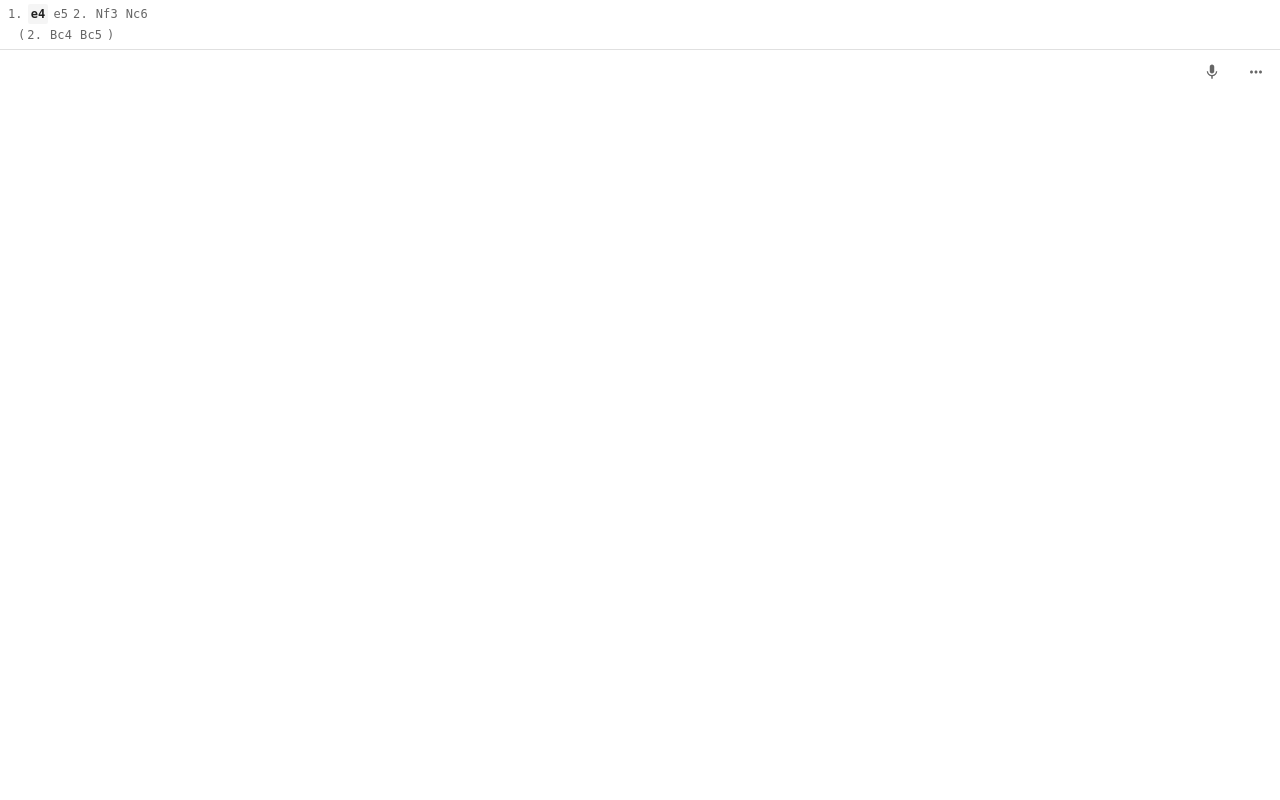
Test: Recording a voice note › a failed save keeps the take and says so
Click the button named "Voice note" at [1212, 72], box [1192,52,1232,92]
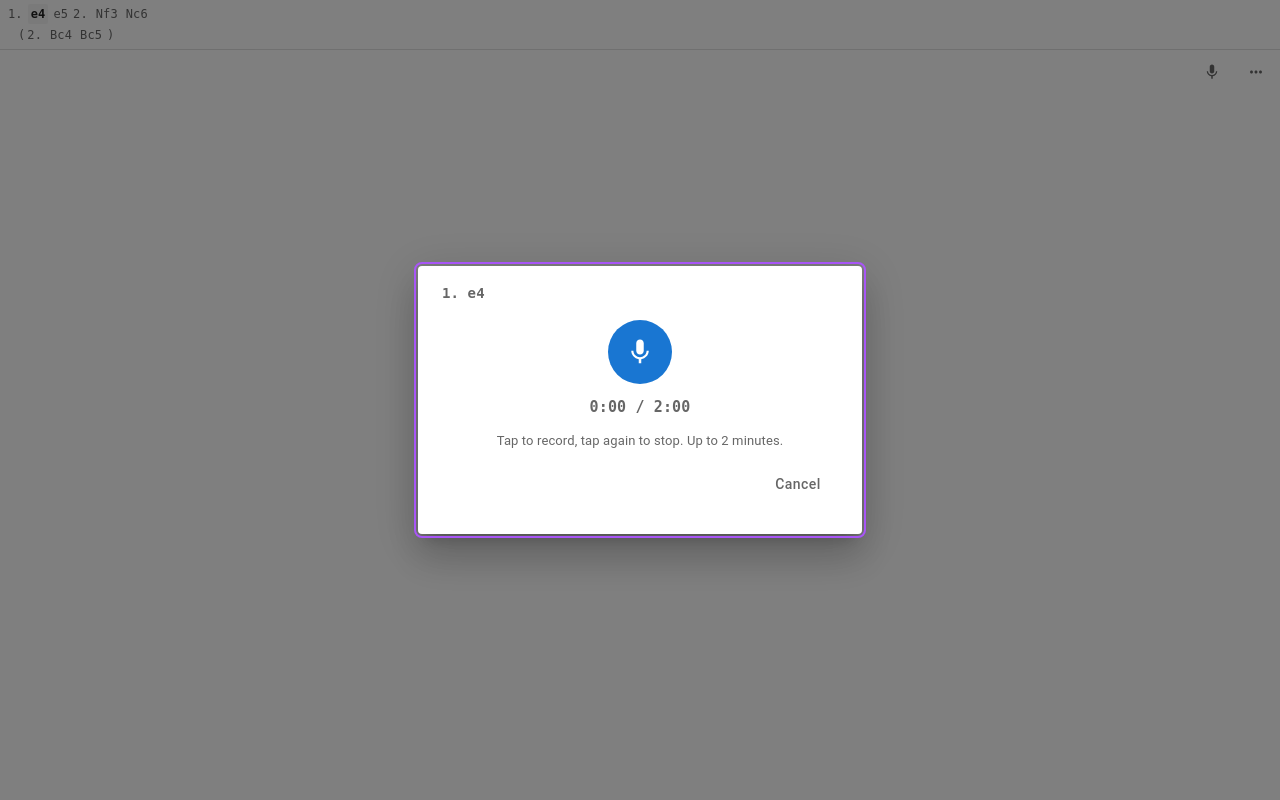
Click the button named "Record" at [640, 352], box [608,320,672,384]
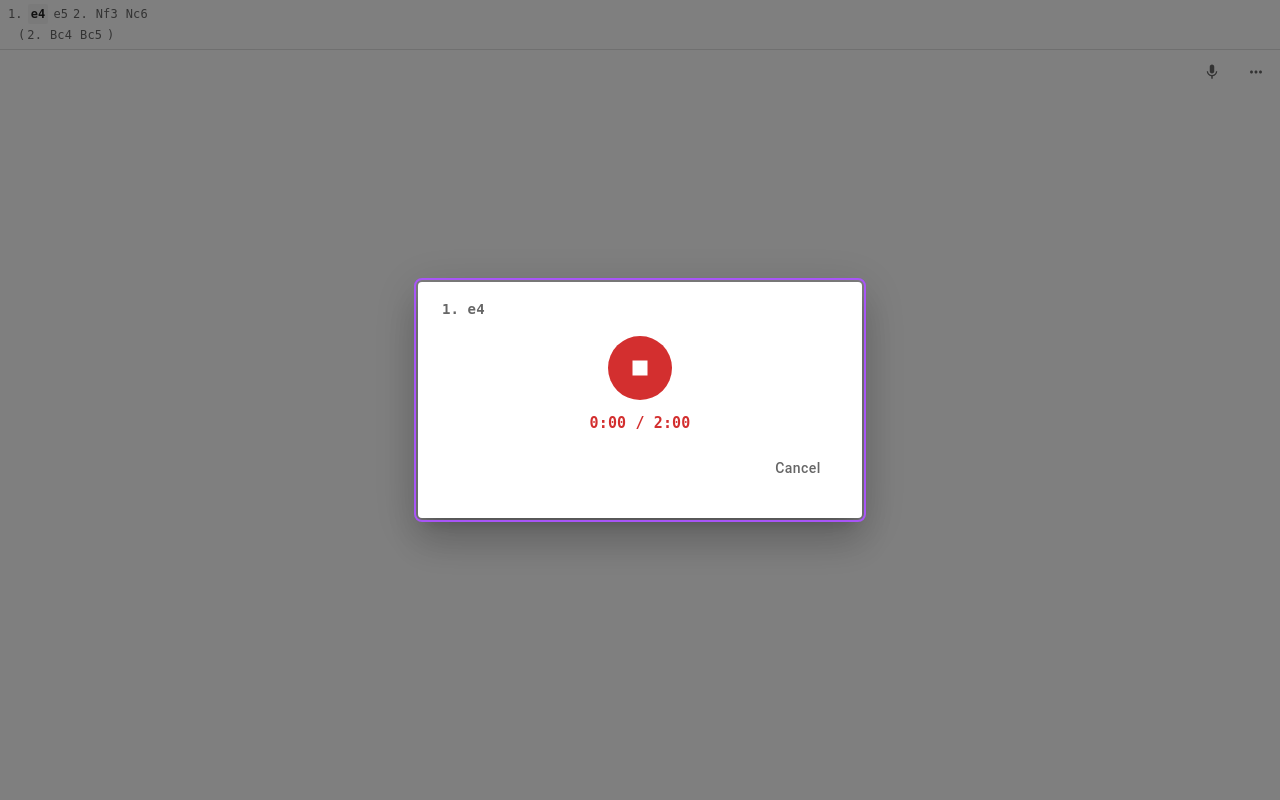
Expected: the button named "Stop" is shown
Click the button named "Stop" at [640, 368], box [608,336,672,400]
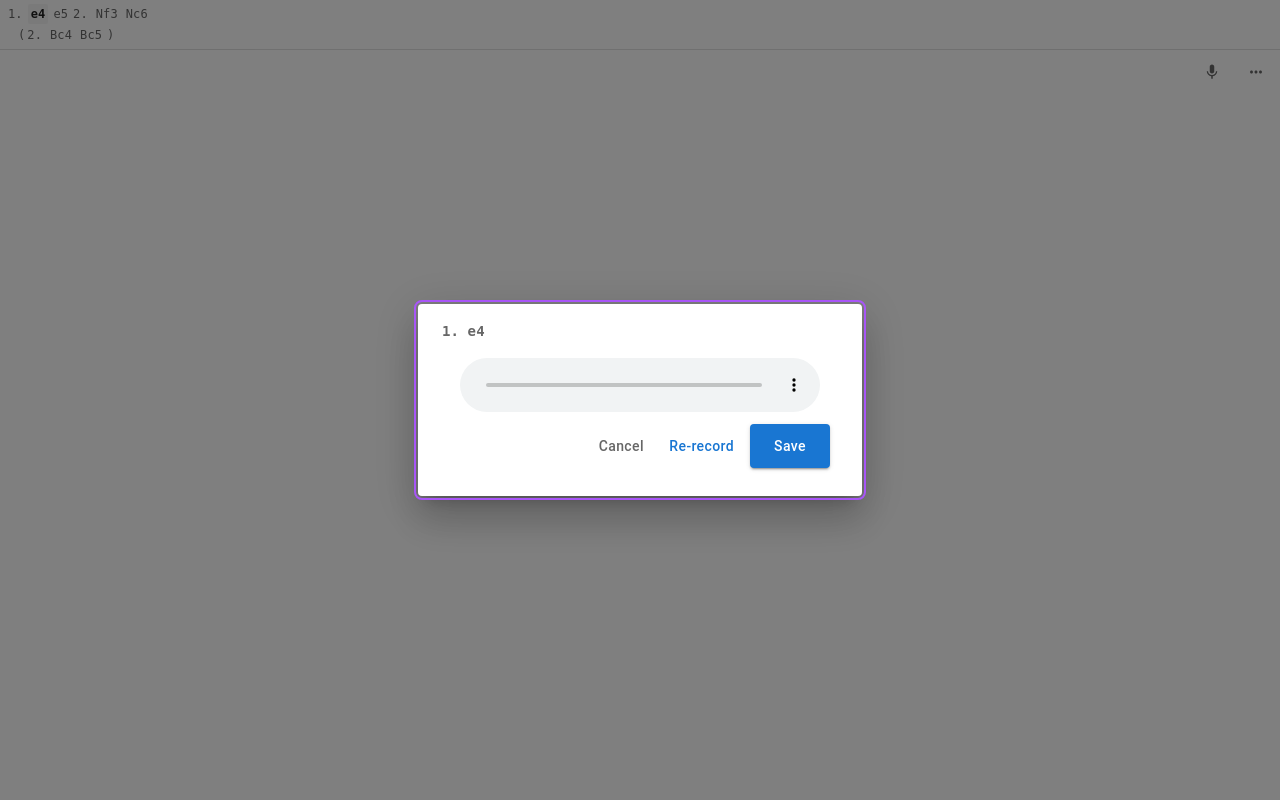
Click the button "Save" at [790, 446], box [750,424,830,468]
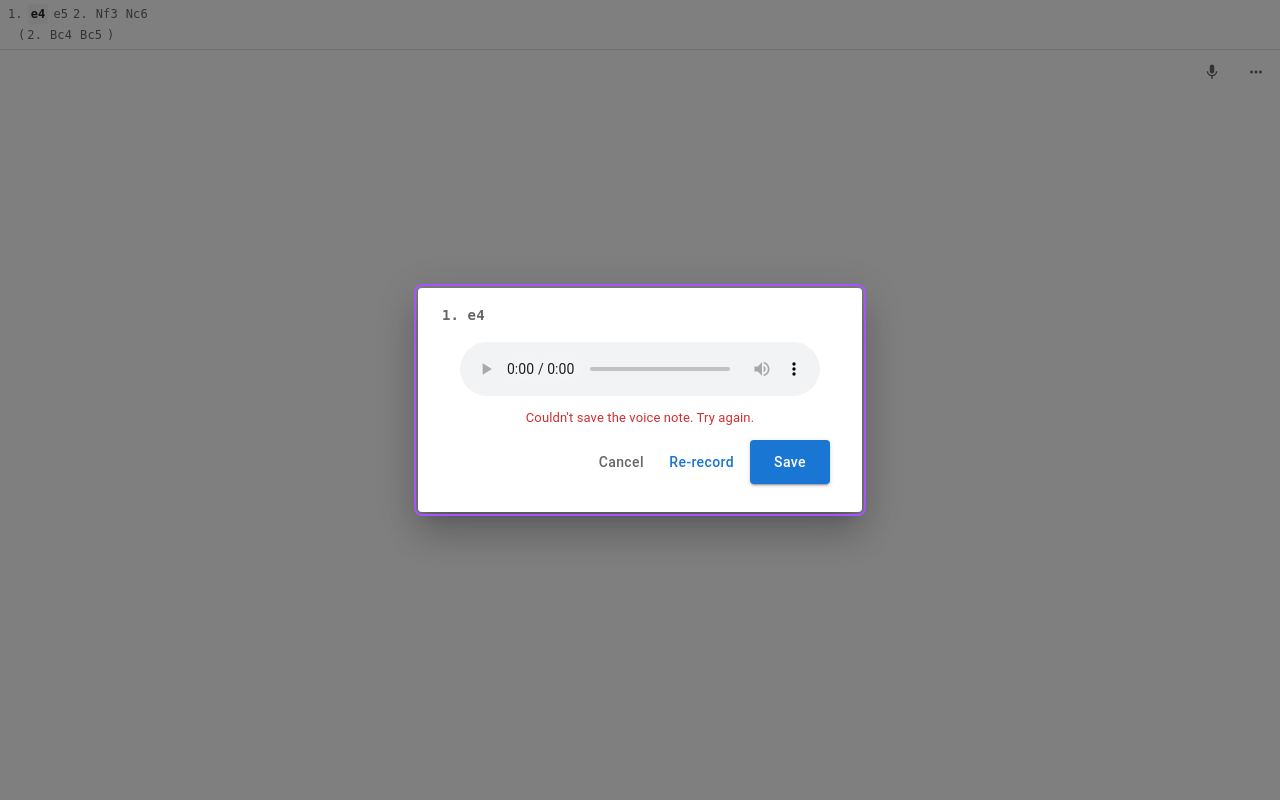
Expected: the element with test id "voice-note-preview" is shown, [460,342,820,396]
Expected: the message shows "Couldn't save", [526,410,754,425]
